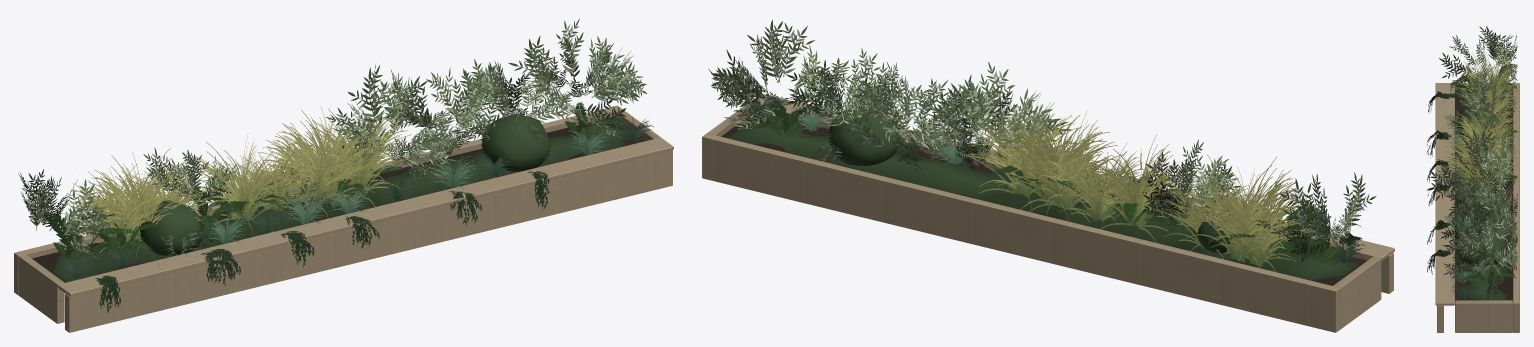
Rendered from courtyard_bed_south.gltf.
The picture shows the model from 3 angles, left to right: view 1: azimuth 30°, elevation 25°; view 2: azimuth 150°, elevation 25°; view 3: azimuth 270°, elevation 25°; orthographic projection. The views are drawn at different scales.
Visible parts, largest first — view 1: CourtyardBedSouth_PlantingNoCollide, CourtyardBedSouth_WallFront, CourtyardBedSouth_Coping, CourtyardBedSouth_GroundcoverNoCollide, CourtyardBedSouth_TrailingNoCollide, CourtyardBedSouth_Boxwood1, CourtyardBedSouth_Boxwood0, CourtyardBedSouth_WallBack, CourtyardBedSouth_EndW, CourtyardBedSouth_Soil; view 2: CourtyardBedSouth_PlantingNoCollide, CourtyardBedSouth_WallBack, CourtyardBedSouth_GroundcoverNoCollide, CourtyardBedSouth_Boxwood1, CourtyardBedSouth_EndW, CourtyardBedSouth_Coping, CourtyardBedSouth_Soil, CourtyardBedSouth_WallFront, CourtyardBedSouth_Boxwood0; view 3: CourtyardBedSouth_PlantingNoCollide, CourtyardBedSouth_Coping, CourtyardBedSouth_EndE, CourtyardBedSouth_WallBack, CourtyardBedSouth_Soil, CourtyardBedSouth_GroundcoverNoCollide, CourtyardBedSouth_Boxwood1, CourtyardBedSouth_TrailingNoCollide, CourtyardBedSouth_Boxwood0, CourtyardBedSouth_WallFront.
Boxes of the visible parts, x1,y1,x2,y2 form: CourtyardBedSouth_PlantingNoCollide: (18, 18, 653, 278); CourtyardBedSouth_WallFront: (65, 150, 672, 332); CourtyardBedSouth_Coping: (57, 137, 673, 296); CourtyardBedSouth_GroundcoverNoCollide: (54, 123, 626, 281); CourtyardBedSouth_TrailingNoCollide: (96, 171, 549, 313); CourtyardBedSouth_Boxwood1: (482, 114, 551, 171); CourtyardBedSouth_Boxwood0: (140, 200, 202, 255); CourtyardBedSouth_WallBack: (14, 105, 621, 295); CourtyardBedSouth_EndW: (19, 254, 64, 323); CourtyardBedSouth_Soil: (32, 116, 647, 282); CourtyardBedSouth_PlantingNoCollide: (708, 19, 1376, 271); CourtyardBedSouth_WallBack: (702, 133, 1340, 332); CourtyardBedSouth_GroundcoverNoCollide: (727, 122, 1358, 280); CourtyardBedSouth_Boxwood1: (829, 107, 899, 165); CourtyardBedSouth_EndW: (1333, 256, 1381, 328); CourtyardBedSouth_Coping: (748, 94, 1394, 260); CourtyardBedSouth_Soil: (721, 114, 1367, 285); CourtyardBedSouth_WallFront: (769, 112, 1393, 293); CourtyardBedSouth_Boxwood0: (1193, 197, 1247, 253); CourtyardBedSouth_PlantingNoCollide: (1427, 26, 1517, 300); CourtyardBedSouth_Coping: (1435, 83, 1454, 305); CourtyardBedSouth_EndE: (1455, 300, 1512, 332); CourtyardBedSouth_WallBack: (1513, 83, 1519, 332); CourtyardBedSouth_Soil: (1455, 90, 1512, 300); CourtyardBedSouth_GroundcoverNoCollide: (1460, 100, 1508, 300); CourtyardBedSouth_Boxwood1: (1455, 226, 1505, 266); CourtyardBedSouth_TrailingNoCollide: (1426, 91, 1458, 274); CourtyardBedSouth_Boxwood0: (1457, 101, 1504, 138); CourtyardBedSouth_WallFront: (1437, 305, 1443, 332).
Bounding box in the file's own units: 7.55 × 1.86 × 1.4.
Materials: 4 (2 with a texture image).
